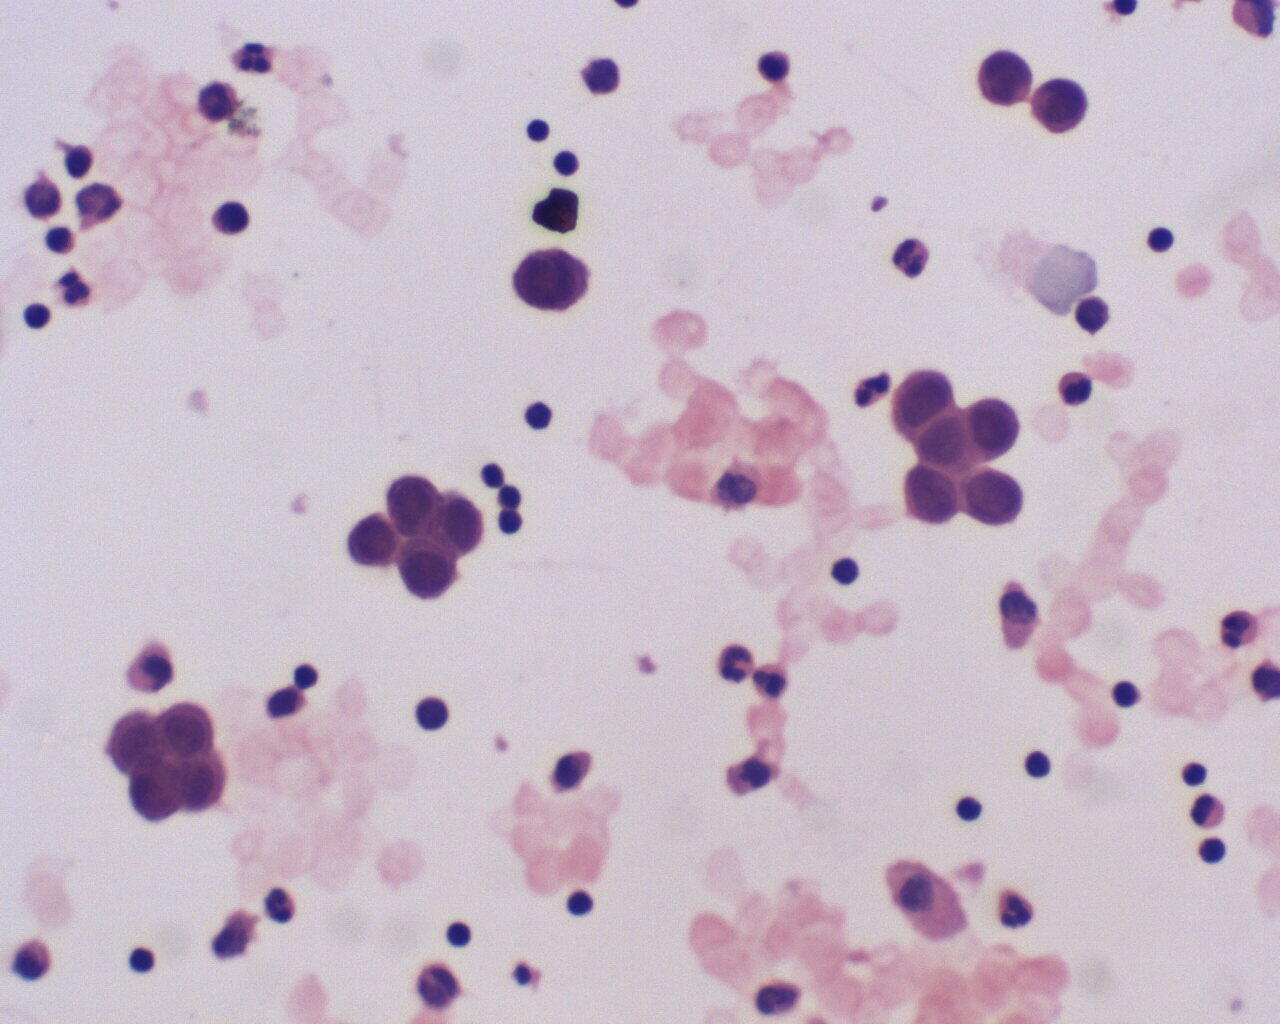ab: (111, 699, 230, 825), (513, 242, 599, 322), (888, 366, 960, 438), (897, 463, 964, 533), (963, 463, 1029, 535), (967, 392, 1026, 463), (394, 536, 458, 602), (340, 504, 400, 572), (976, 43, 1030, 113), (1034, 68, 1091, 135), (428, 490, 480, 559)
lymph: (825, 554, 872, 595), (1142, 220, 1185, 263), (565, 880, 605, 923), (18, 298, 60, 338), (1107, 675, 1148, 715), (953, 789, 990, 831), (1024, 742, 1058, 785), (123, 942, 161, 980), (520, 397, 558, 434), (1179, 757, 1212, 794), (520, 117, 556, 148)
meso: (887, 859, 968, 940)
neutro: (888, 229, 938, 285), (998, 884, 1040, 936), (1217, 604, 1262, 652), (228, 38, 277, 80), (715, 638, 758, 686), (850, 369, 894, 412), (1056, 370, 1099, 413), (263, 880, 299, 927)
